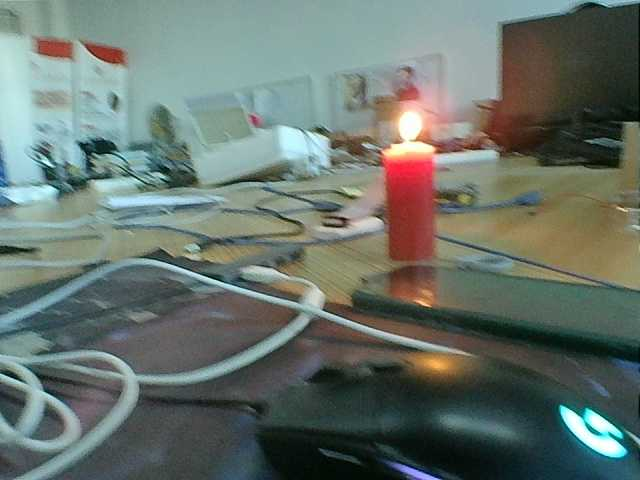candle: (376, 151, 448, 263)
fire: (391, 104, 432, 148)
